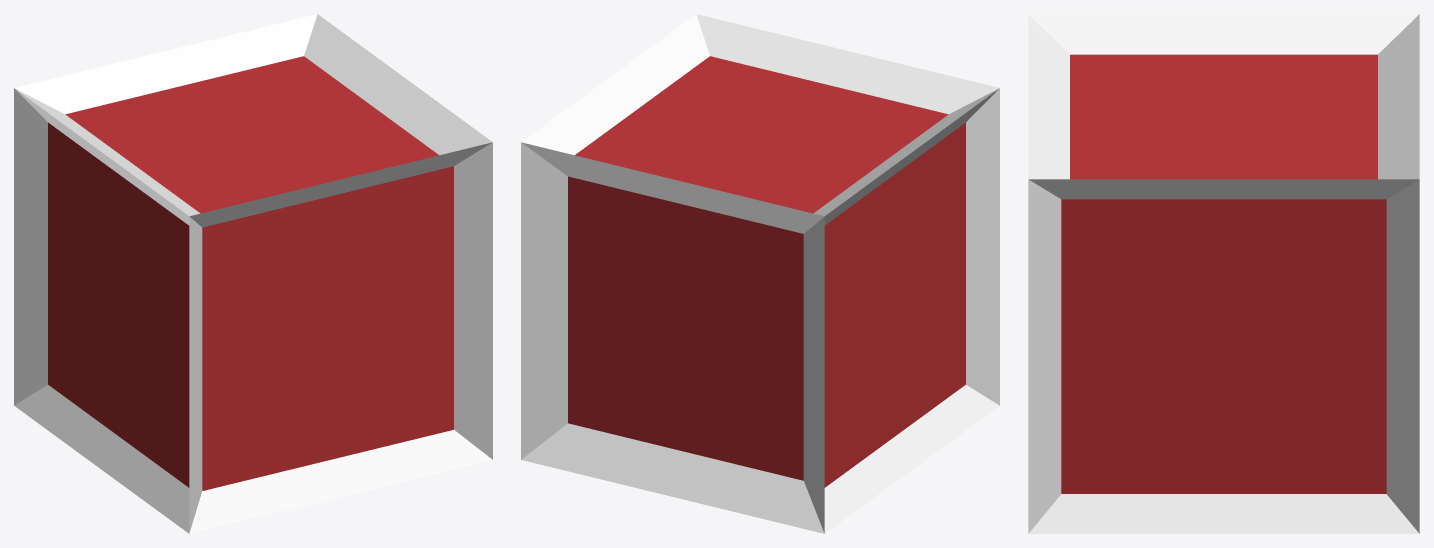
The model's file is HealthPowerup.fbx.
3 renders of one model, left to right at view 1: azimuth 30°, elevation 25°; view 2: azimuth 150°, elevation 25°; view 3: azimuth 270°, elevation 25°, orthographic. The views are drawn at different scales.
Visible parts, largest first — view 1: Cube; view 2: Cube; view 3: Cube.
Boxes of the visible parts, left/top/right/bottom form: Cube: left=14, top=14, right=492, bottom=533; Cube: left=521, top=14, right=999, bottom=533; Cube: left=1028, top=14, right=1419, bottom=533.
Bounding box in the file's own units: 200 × 200 × 200.
1 material, 1 textured.
